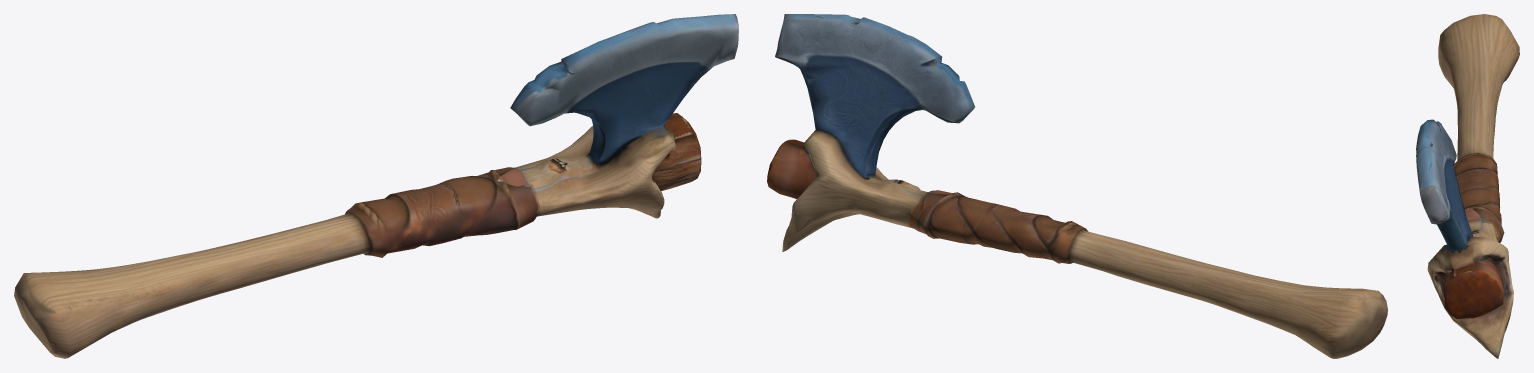
Rendered from tungsten_hatchet.glb.
3 renders of one model, left to right at view 1: azimuth 30°, elevation 25°; view 2: azimuth 150°, elevation 25°; view 3: azimuth 270°, elevation 25°, orthographic. The views are drawn at different scales.
Parts seen in each view (by area): view 1: Mesh_0.003; view 2: Mesh_0.003; view 3: Mesh_0.003.
Boxes of the visible parts, x1,y1,x2,y2 form: Mesh_0.003: (14,14,738,358); Mesh_0.003: (767,14,1387,358); Mesh_0.003: (1416,14,1519,358).
Size of the model in its own units: 0.7348 by 0.2442 by 0.1147.
Materials: 1 (1 with a texture image).
